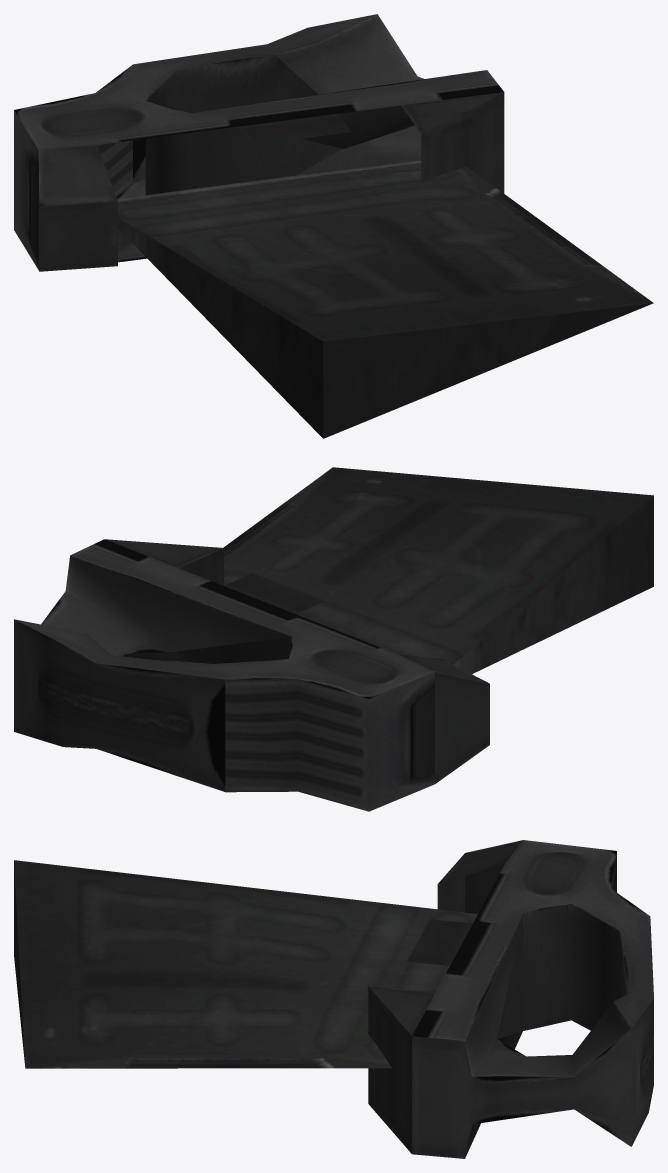
Rendered from t6_attach_fastmag_svu_world_LOD2.obj.
3 renders of one model, top to bottom at view 1: azimuth 30°, elevation 25°; view 2: azimuth 150°, elevation 25°; view 3: azimuth 270°, elevation 25°, orthographic. The views are drawn at different scales.
Visible parts, largest first — view 1: mtl_t6_wpn_sniper_svu, mtl_t6_attach_sniper_fastmag, mtl_t6_wpn_sniper_svu_camo3; view 2: mtl_t6_attach_sniper_fastmag, mtl_t6_wpn_sniper_svu, mtl_t6_wpn_sniper_svu_camo3; view 3: mtl_t6_wpn_sniper_svu, mtl_t6_attach_sniper_fastmag.
Part boxes in pixels (left/top/right/bottom): mtl_t6_wpn_sniper_svu: left=117, top=159, right=653, bottom=438; mtl_t6_attach_sniper_fastmag: left=14, top=14, right=504, bottom=271; mtl_t6_wpn_sniper_svu_camo3: left=118, top=218, right=323, bottom=438; mtl_t6_attach_sniper_fastmag: left=14, top=539, right=489, bottom=811; mtl_t6_wpn_sniper_svu: left=223, top=467, right=653, bottom=664; mtl_t6_wpn_sniper_svu_camo3: left=453, top=496, right=653, bottom=673; mtl_t6_wpn_sniper_svu: left=14, top=860, right=477, bottom=1068; mtl_t6_attach_sniper_fastmag: left=368, top=840, right=653, bottom=1158.
Size of the model in its own units: 14.07 by 3.59 by 17.66.
